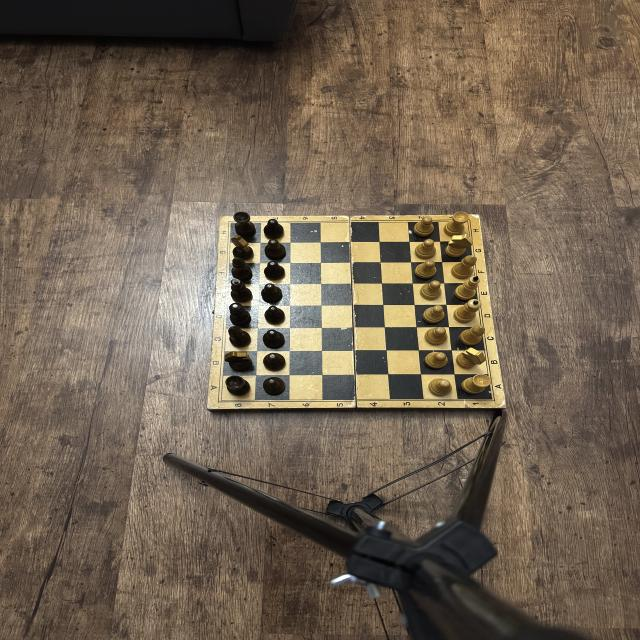black-bishop: (228, 326, 251, 347), (232, 258, 252, 280)
black-king: (230, 278, 252, 303)
black-knight: (230, 235, 254, 260), (224, 351, 253, 371)
black-pawn: (264, 238, 286, 260), (262, 219, 284, 239), (262, 329, 285, 348), (262, 377, 286, 395), (261, 283, 283, 302), (264, 261, 285, 280), (264, 306, 286, 324), (263, 353, 286, 370)
black-queen: (229, 302, 251, 326)
black-rook: (233, 212, 256, 237), (225, 375, 251, 396)
white-bishop: (450, 255, 477, 279), (459, 325, 485, 346)
white-king: (454, 276, 480, 300)
white-knight: (445, 234, 472, 258), (456, 348, 486, 368)
white-pawn: (419, 280, 442, 300), (413, 216, 434, 237), (414, 239, 436, 259), (414, 260, 437, 279), (422, 305, 445, 324), (424, 327, 448, 345), (424, 351, 448, 369), (428, 378, 452, 396)
white-queen: (454, 299, 482, 323)
white-rook: (461, 374, 491, 395), (443, 212, 469, 236)
